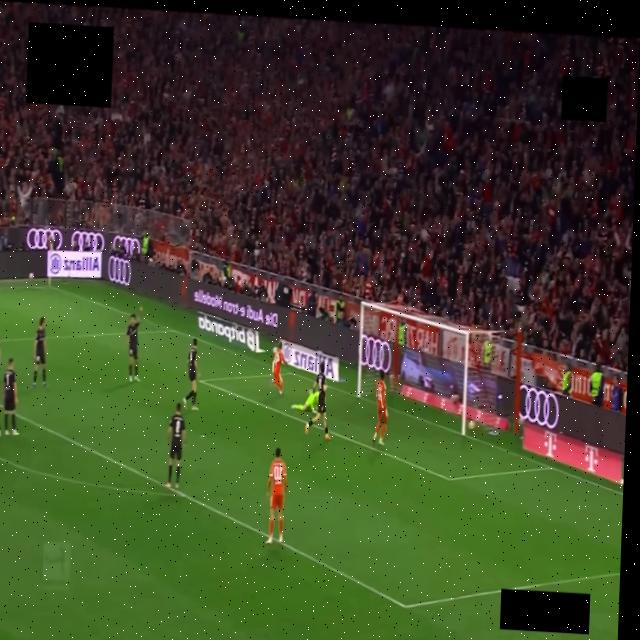player: (266, 448, 286, 544), (305, 363, 329, 440), (165, 403, 185, 488), (126, 307, 142, 382), (3, 359, 18, 435), (372, 370, 387, 446), (183, 339, 198, 411), (32, 317, 45, 387), (271, 342, 285, 394), (292, 391, 317, 413), (0, 323, 2, 378)
referee: (0, 376, 2, 461)
